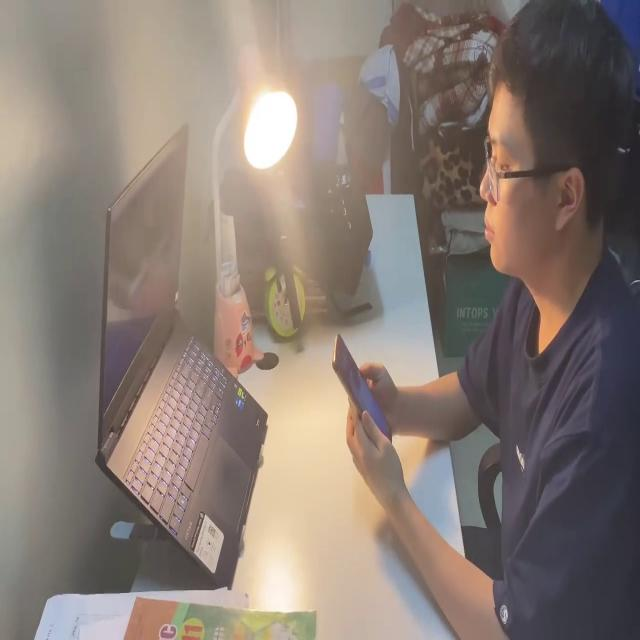book: (38, 579, 317, 640)
laptop: (91, 115, 270, 585)
phone: (330, 324, 394, 471)
student: (341, 0, 640, 640)
